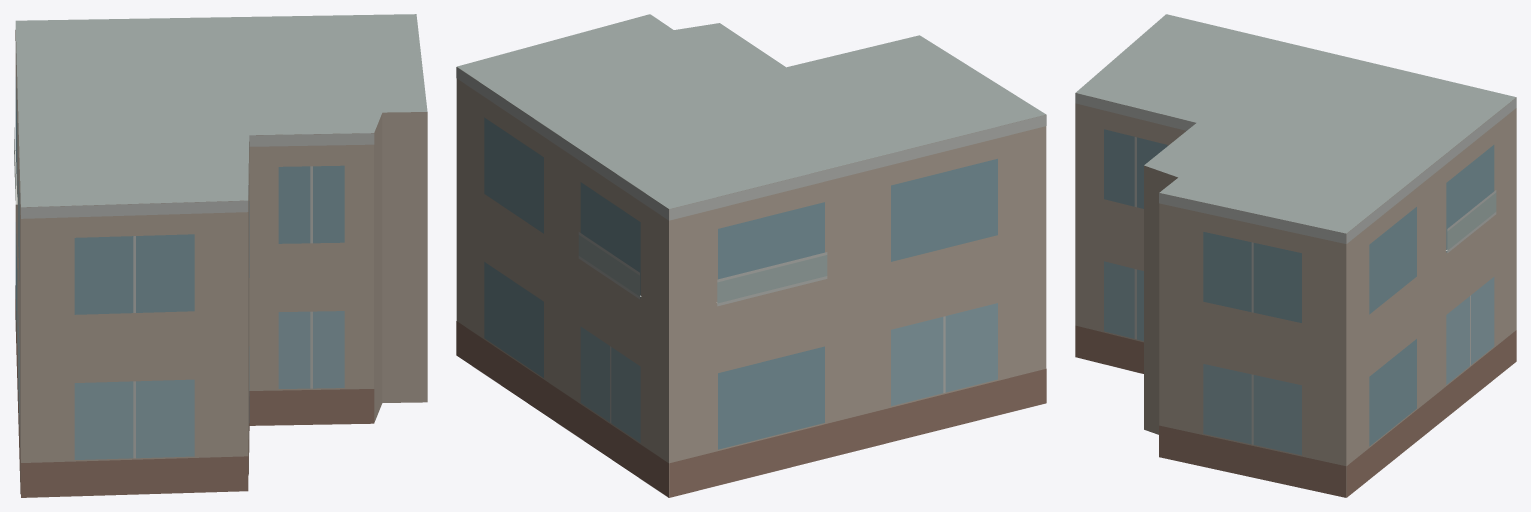
The model's file is survey-upis-32466405.glb.
3 views of the same model, side by side, from view 1: azimuth 30°, elevation 25°; view 2: azimuth 150°, elevation 25°; view 3: azimuth 270°, elevation 25° (orthographic). The views are drawn at different scales.
Parts seen in each view (by area): view 1: survey-upis-32466405.tmp; view 2: survey-upis-32466405.tmp; view 3: survey-upis-32466405.tmp.
Part boxes in pixels (box(x1,y1,x2,y2)): survey-upis-32466405.tmp: box(14, 14, 427, 497); survey-upis-32466405.tmp: box(456, 14, 1046, 497); survey-upis-32466405.tmp: box(1075, 14, 1516, 497).
Size of the model in its own units: 10.88 by 6.1 by 9.24.
